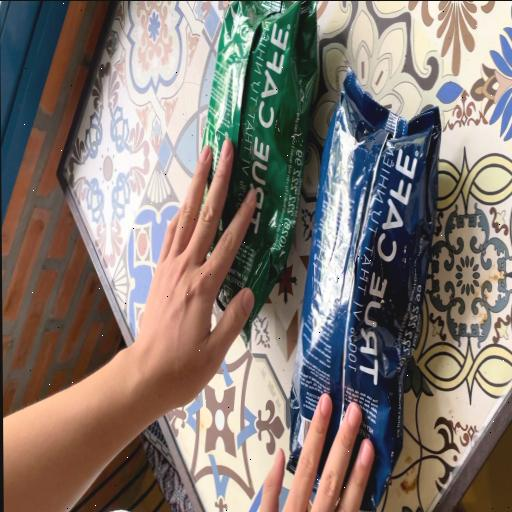cafe_hat: (287, 70, 441, 512)
cafe_xay: (204, 0, 318, 342)
